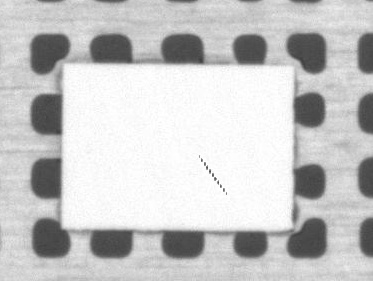DIE_INK: (198, 154, 227, 196)
